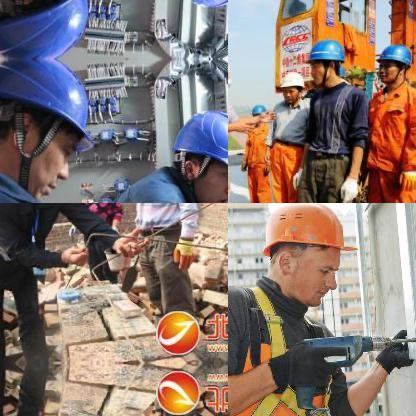Helmet: (0, 57, 106, 186), (252, 203, 359, 311), (165, 94, 227, 202), (0, 0, 108, 59), (303, 35, 347, 85), (373, 40, 413, 84), (164, 0, 227, 22), (276, 68, 306, 102), (248, 100, 266, 122)
